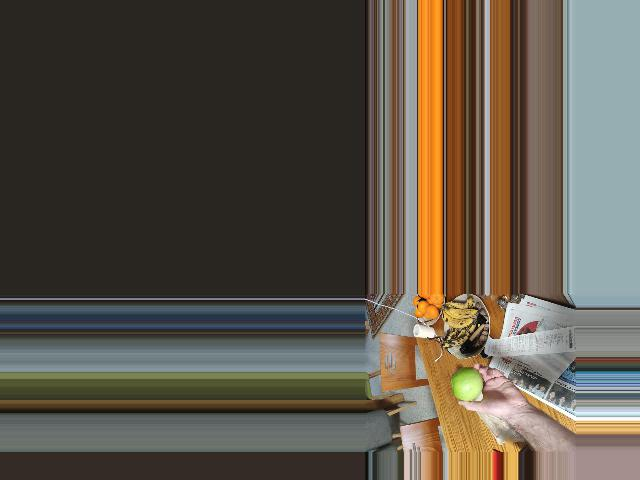apple: (448, 367, 486, 404)
